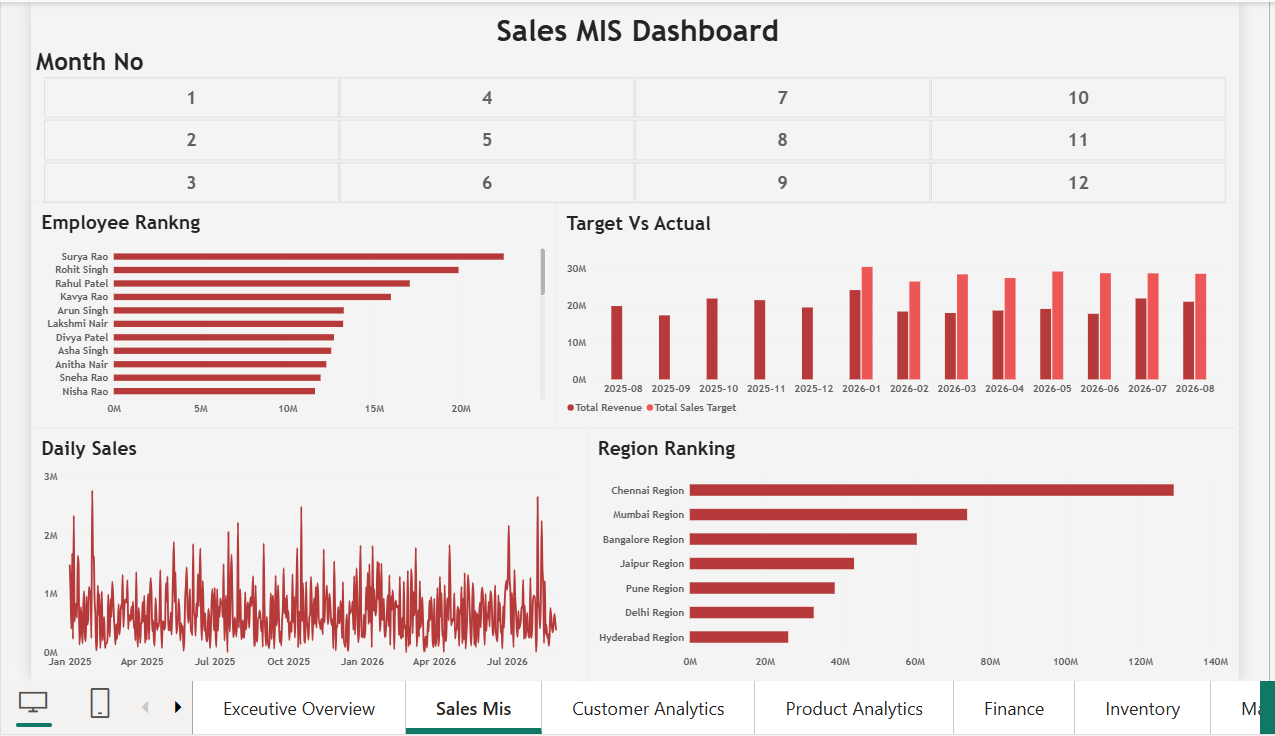

What the dashboard file says about the page in this screenshot:
{"tool":"powerbi","page":{"name":"Sales Mis","canvas":[1920,1080],"ordinal":1},"visuals":[{"type":"lineChart","title":"Daily Sales","fields":{"Y":["Measures (2).Total Revenue"],"Category":["Date Table.Date.Variation.Date Hierarchy.Year","Date Table.Date.Variation.Date Hierarchy.Quarter","Date Table.Date.Variation.Date Hierarchy.Month","Date Table.Date.Variation.Date Hierarchy.Day"]},"box":[0,678.2,885.5,402.8],"z":0},{"type":"clusteredColumnChart","title":"Target Vs Actual","fields":{"Category":["Date Table.Year Month"],"Y":["Measures (2).Total Revenue","Measures (2).Total Sales Target"]},"box":[835.1,319.7,1083.2,357.9],"z":1000},{"type":"clusteredBarChart","title":"Employee Rankng","fields":{"Y":["Measures (2).Total Revenue"],"Category":["Employee.Employee_Name"]},"box":[0,317.3,835.1,360.3],"z":2000},{"type":"clusteredBarChart","title":"Region Ranking","fields":{"Y":["Measures (2).Total Revenue"],"Category":["Region.Region_Name"]},"box":[885.5,678.2,1036.5,402.8],"z":3000},{"type":"textbox","box":[601.3,0,727.7,119.3],"z":4000},{"type":"slicer","fields":{"Values":["Date Table.Month No"]},"box":[0,70.9,1919.1,249.5],"z":5000}]}

Visuals, with their boxes on the page's 1920x1080 design canvas (x1, y1, x2, y2). These are canvas units, not pixel positions in the 1275x736 screenshot, which may show the page scaled, cropped or inside an application window:
"Daily Sales" lineChart: box(0, 678, 886, 1081)
"Target Vs Actual" clusteredColumnChart: box(835, 320, 1918, 678)
"Employee Rankng" clusteredBarChart: box(0, 317, 835, 678)
"Region Ranking" clusteredBarChart: box(886, 678, 1922, 1081)
textbox: box(601, 0, 1329, 119)
slicer - Date Table.Month No: box(0, 71, 1919, 320)
